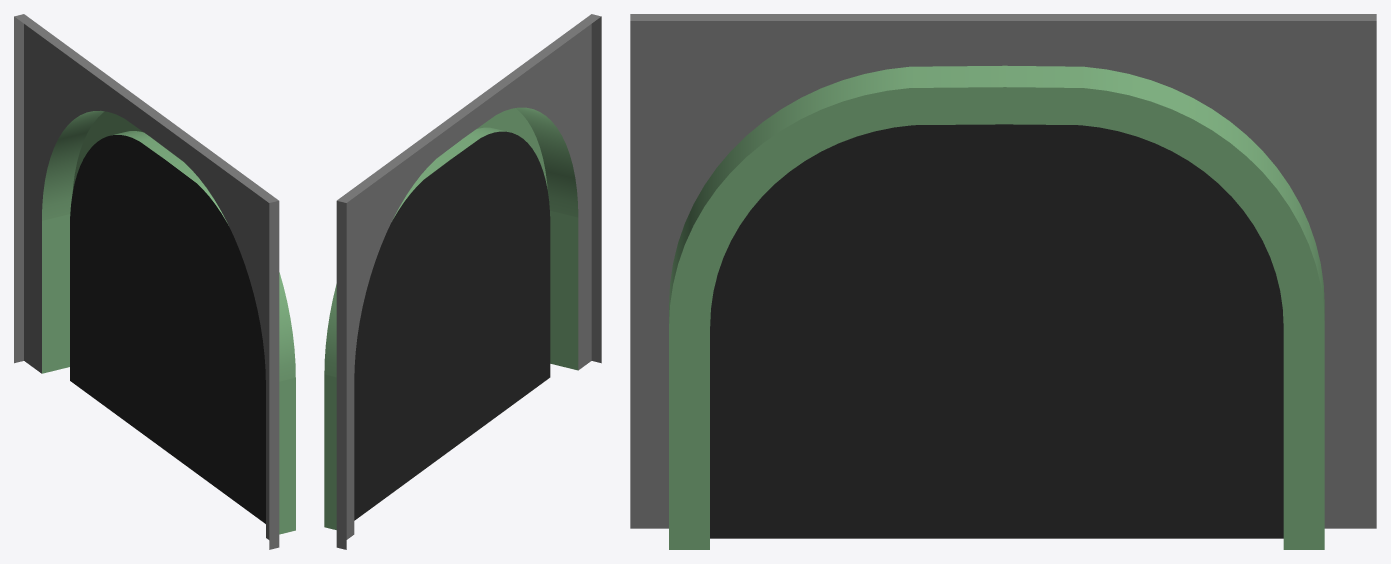
The model's file is entre_metro.FBX.
The picture shows the model from 3 angles, left to right: view 1: azimuth 30°, elevation 25°; view 2: azimuth 150°, elevation 25°; view 3: azimuth 270°, elevation 25°; orthographic projection. The views are drawn at different scales.
Parts seen in each view (by area): view 1: entree_metro; view 2: entree_metro; view 3: entree_metro.
Part boxes in pixels (bbox=[...]): entree_metro: bbox=[14, 14, 295, 549]; entree_metro: bbox=[324, 14, 601, 549]; entree_metro: bbox=[630, 14, 1376, 549].
Size of the model in its own units: 72.15 by 800 by 600.
